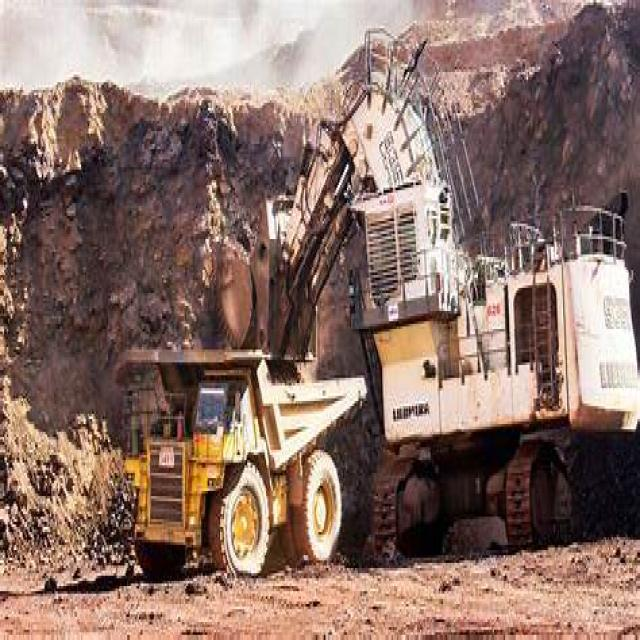dump_truck: (104, 316, 343, 589)
excavator: (212, 34, 639, 609)
